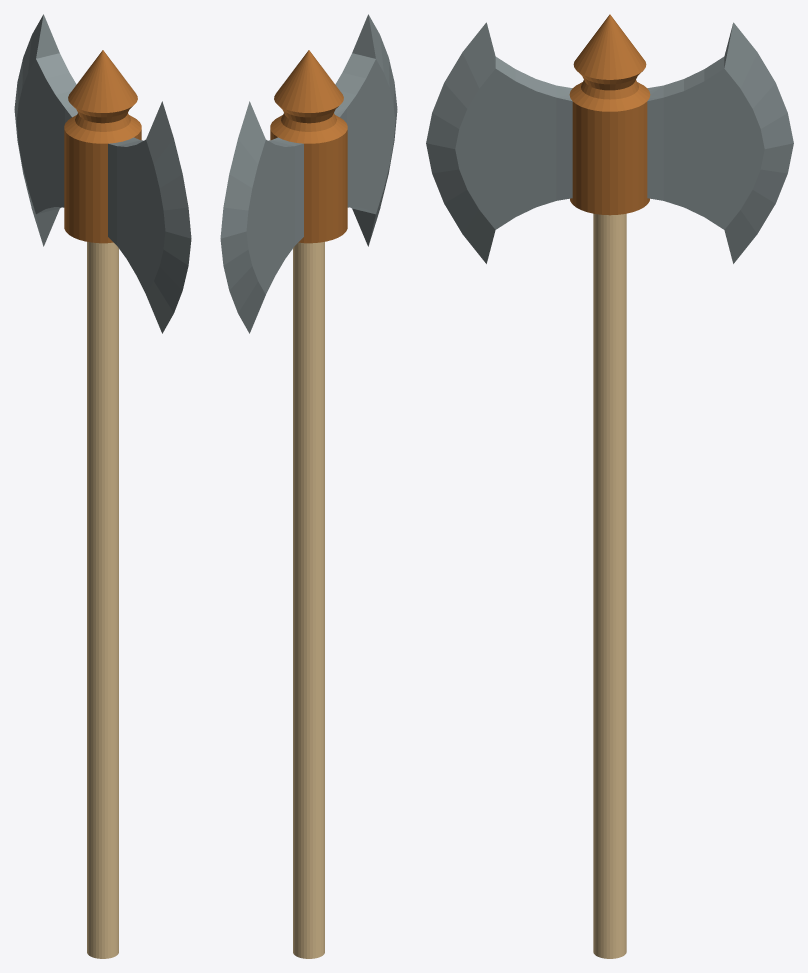
The model's file is HachaDeGuerra1_escala.dae.
The picture shows the model from 3 angles, left to right: view 1: azimuth 30°, elevation 25°; view 2: azimuth 150°, elevation 25°; view 3: azimuth 270°, elevation 25°; orthographic projection. The views are drawn at different scales.
Parts seen in each view (by area): view 1: Hacha; view 2: Hacha; view 3: Hacha.
Part boxes in pixels (bbox=[...]): Hacha: bbox=[14, 14, 191, 958]; Hacha: bbox=[220, 14, 397, 958]; Hacha: bbox=[426, 14, 793, 958].
Bounding box in the file's own units: 0.238 × 1.08 × 3.05.
